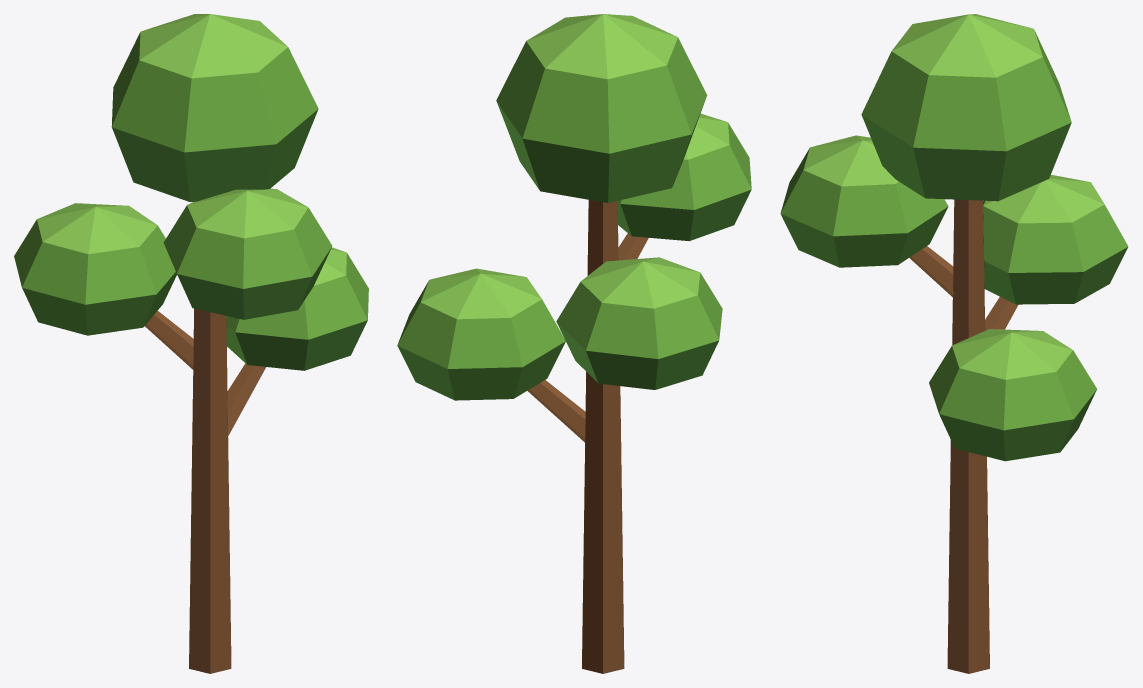
The model's file is tree_thin.glb.
3 renders of one model, left to right at view 1: azimuth 30°, elevation 25°; view 2: azimuth 150°, elevation 25°; view 3: azimuth 270°, elevation 25°, orthographic.
Parts seen in each view (by area): view 1: tree_thin; view 2: tree_thin; view 3: tree_thin.
Part boxes in pixels (x1,y1,x2,y2): tree_thin: (14, 14, 368, 673); tree_thin: (397, 14, 751, 673); tree_thin: (780, 14, 1128, 673).
Bounding box in the file's own units: 0.6996 × 1.32 × 0.6425.
1 material, 1 textured.
